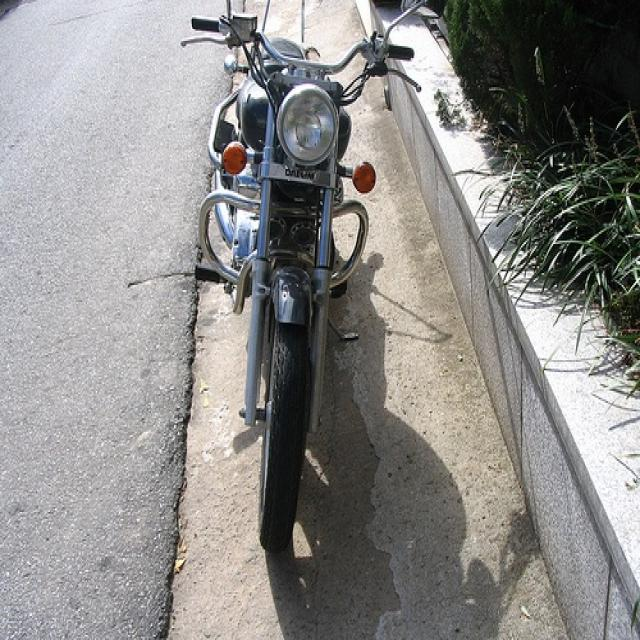motorbike: (177, 4, 435, 568)
